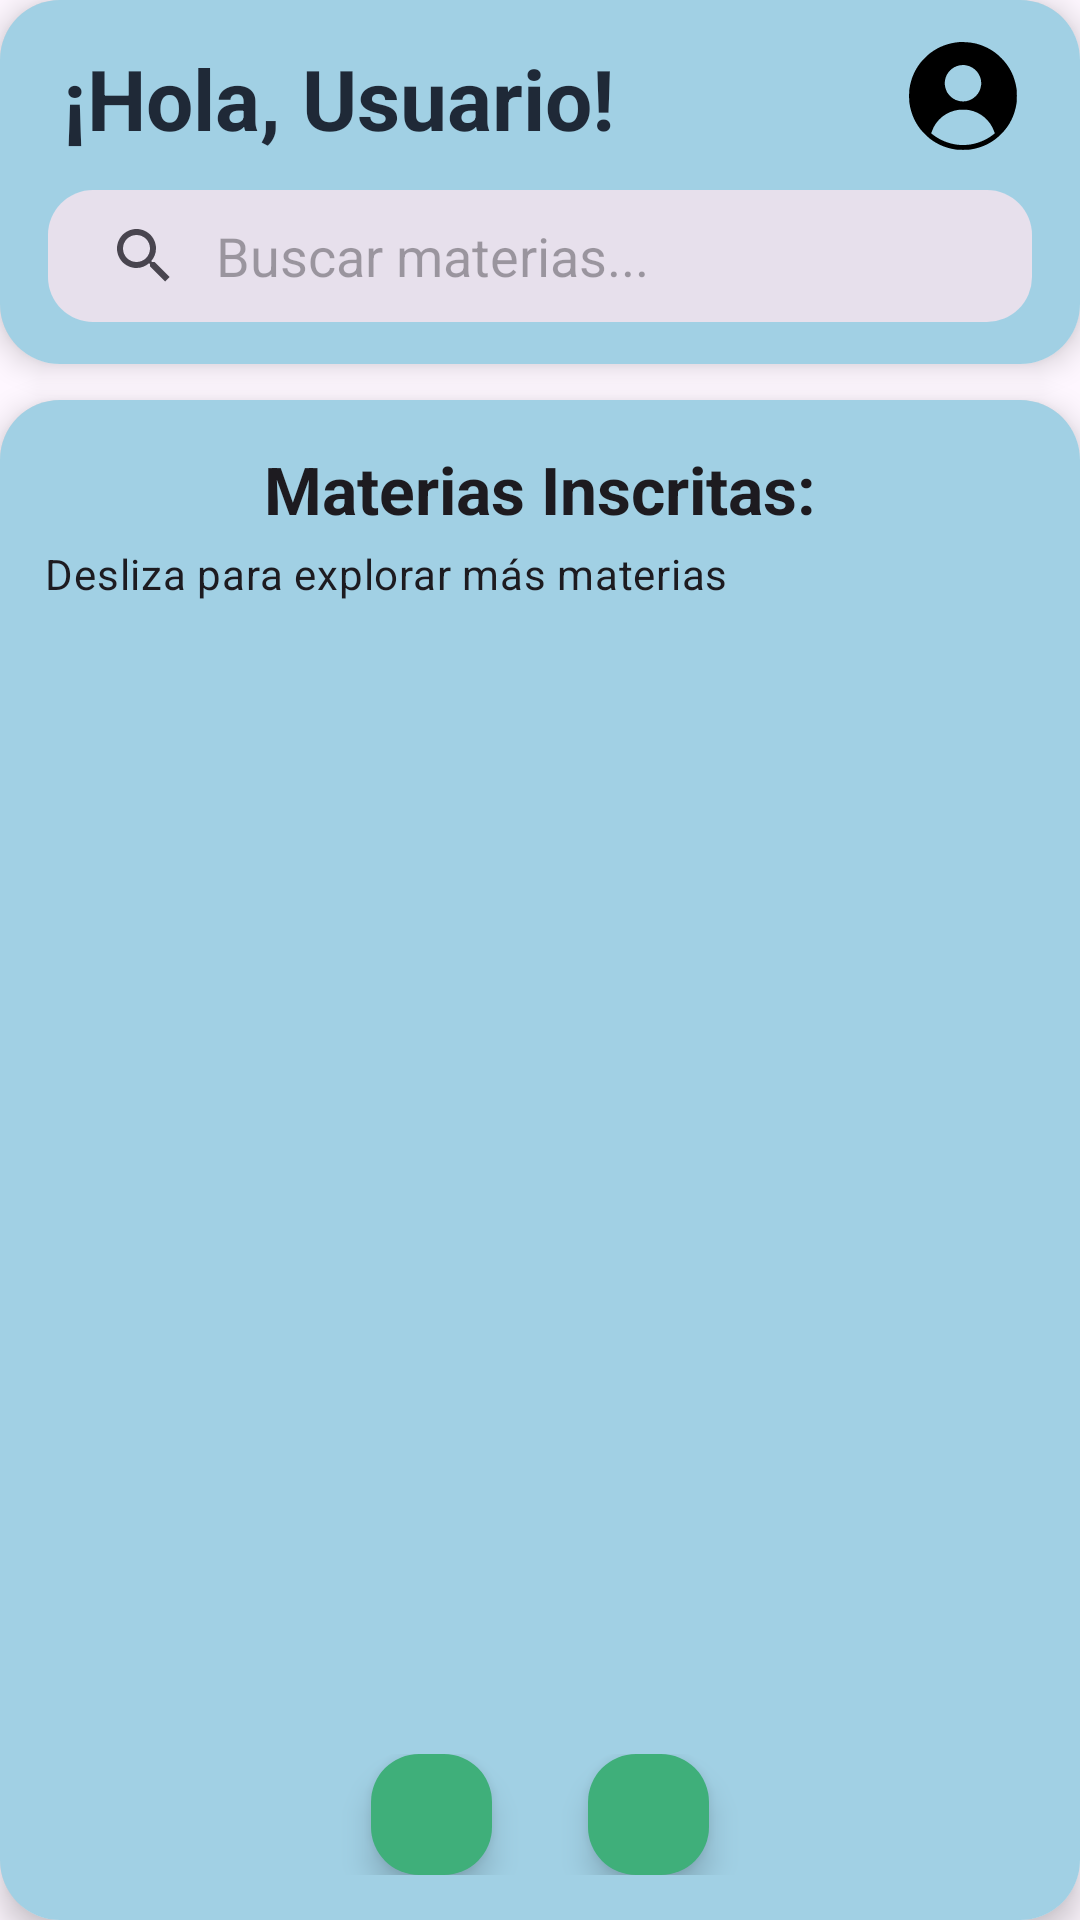

Icon bounding boxes for this 1080 × 1920 phone screenshot, format bbox=(x1, y1, x2, y2):
usuario: bbox=(909, 42, 1017, 150)
